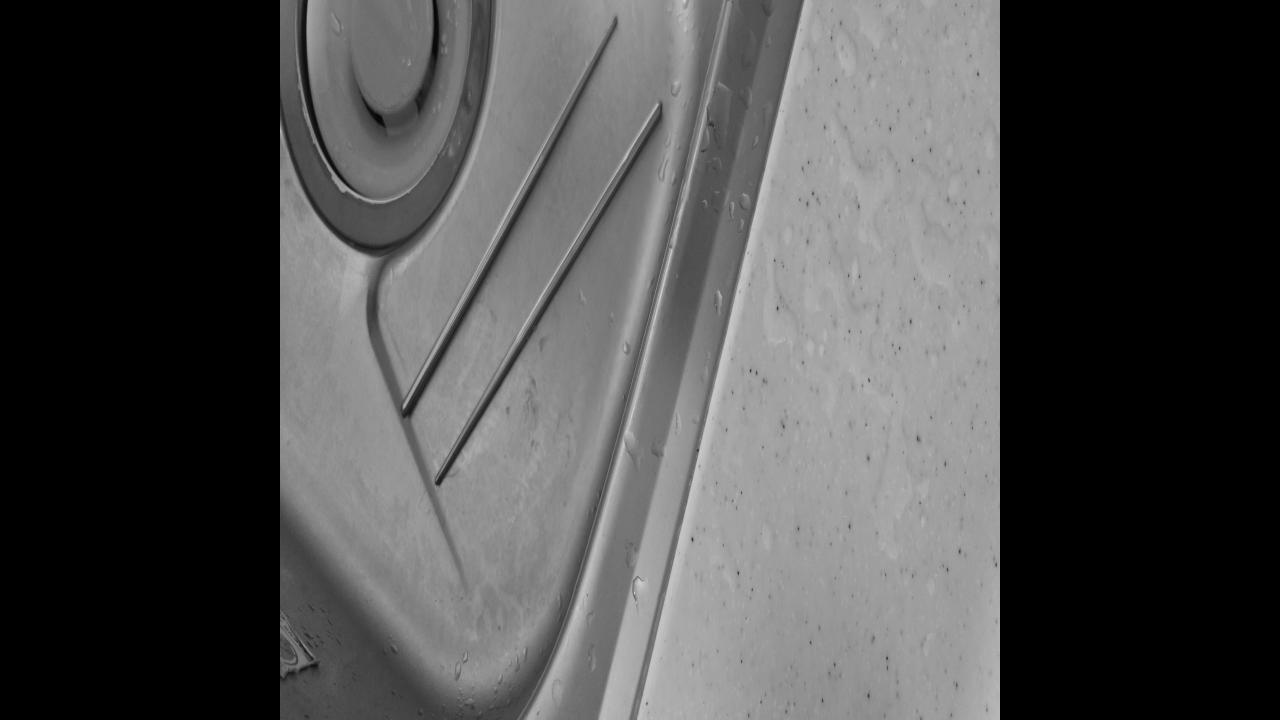chopstick: (395, 5, 669, 505)
